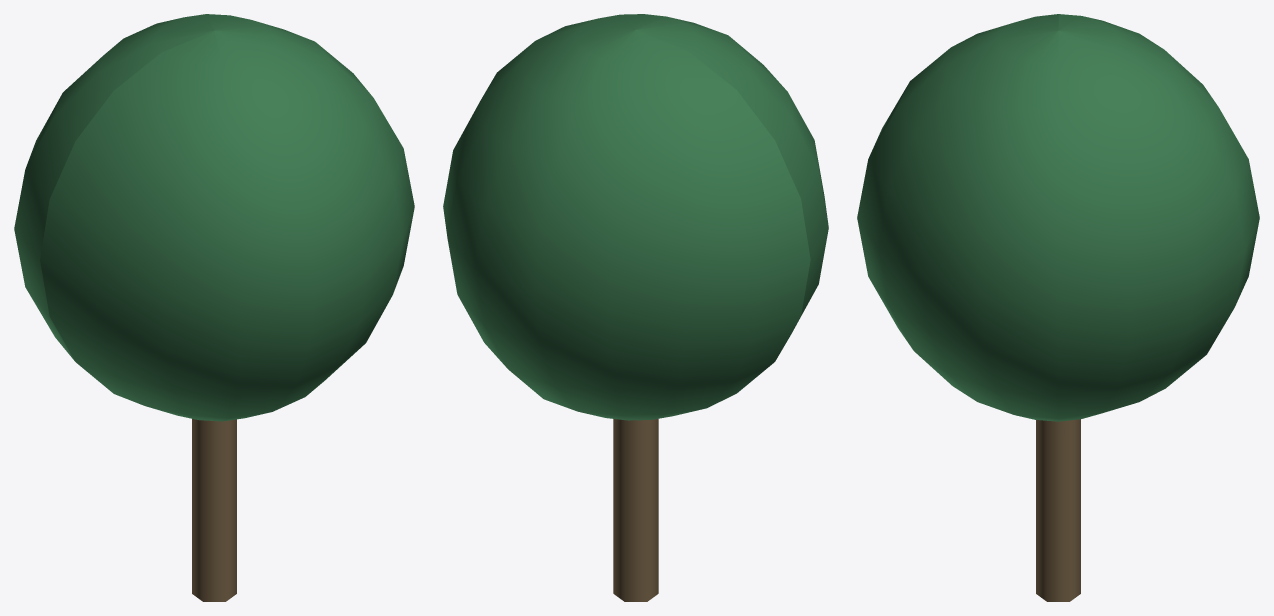
Rendered from tree-broad.glb.
3 views of the same model, side by side, from view 1: azimuth 30°, elevation 25°; view 2: azimuth 150°, elevation 25°; view 3: azimuth 270°, elevation 25° (orthographic).
Parts seen in each view (by area): view 1: tree-broad-crown, tree-trunk; view 2: tree-broad-crown, tree-trunk; view 3: tree-broad-crown, tree-trunk.
Part boxes in pixels (x1,y1,x2,y2): tree-broad-crown: [14, 14, 414, 421]; tree-trunk: [192, 419, 236, 601]; tree-broad-crown: [443, 14, 828, 420]; tree-trunk: [613, 419, 658, 601]; tree-broad-crown: [857, 14, 1259, 421]; tree-trunk: [1036, 419, 1080, 601].
Bounding box in the file's own units: 1.07 × 1.65 × 1.07.
